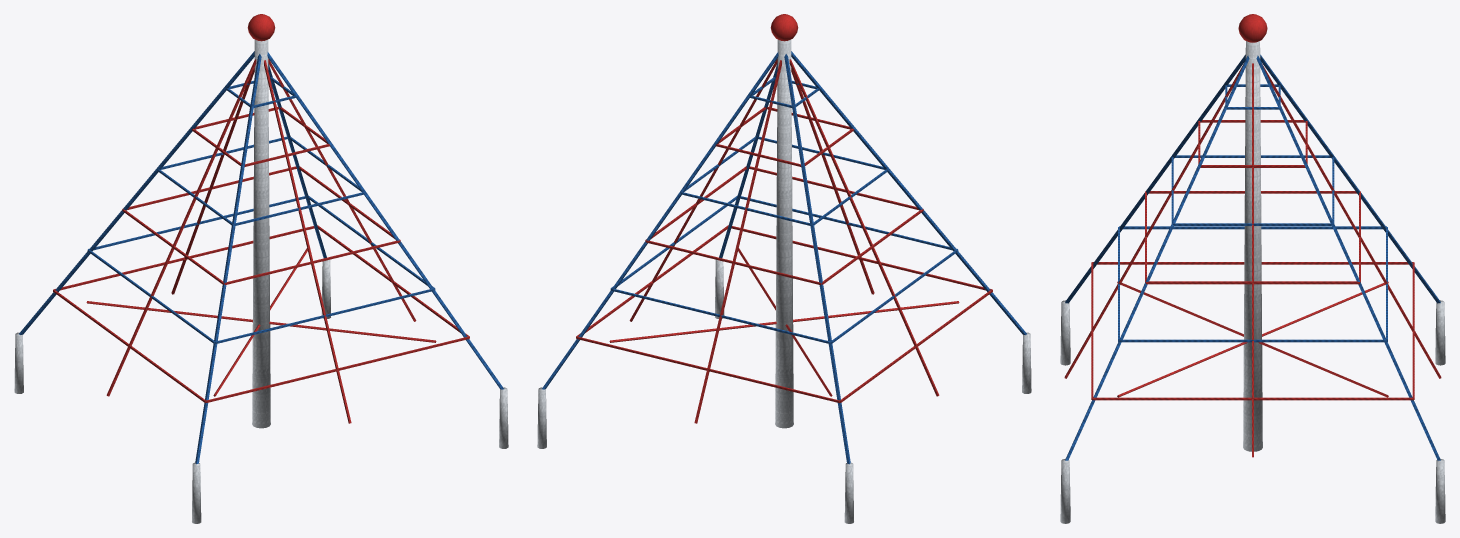
The model's file is playground_pyramid.glb.
3 renders of one model, left to right at view 1: azimuth 30°, elevation 25°; view 2: azimuth 150°, elevation 25°; view 3: azimuth 270°, elevation 25°, orthographic. The views are drawn at different scales.
Parts seen in each view (by area): view 1: Pyramid_rope_red, Pyramid_rope_blue, Pyramid_mast, Pyramid_finial; view 2: Pyramid_rope_red, Pyramid_rope_blue, Pyramid_mast, Pyramid_finial; view 3: Pyramid_rope_red, Pyramid_rope_blue, Pyramid_mast, Pyramid_finial.
Part boxes in pixels (x1,y1,x2,y2): Pyramid_rope_red: (53, 59, 469, 423); Pyramid_rope_blue: (19, 51, 503, 464); Pyramid_mast: (14, 39, 508, 523); Pyramid_finial: (247, 14, 275, 41); Pyramid_rope_red: (576, 59, 992, 423); Pyramid_rope_blue: (542, 51, 1026, 464); Pyramid_mast: (537, 39, 1031, 523); Pyramid_finial: (770, 14, 798, 41); Pyramid_rope_red: (1064, 63, 1441, 457); Pyramid_rope_blue: (1065, 54, 1440, 460); Pyramid_mast: (1060, 41, 1445, 523); Pyramid_finial: (1238, 14, 1267, 42).
Bounding box in the file's own units: 3.71 × 4.59 × 3.71.
4 materials, 4 textured.
